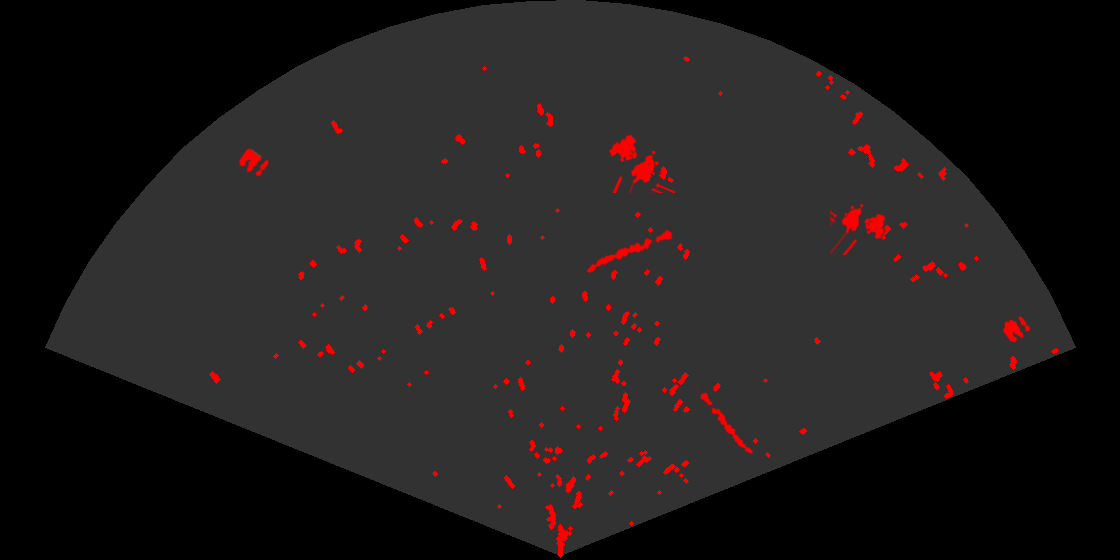ball: (237, 147, 271, 178), (1001, 315, 1032, 344)
cage: (607, 133, 675, 193), (830, 202, 887, 255)
chain: (585, 228, 677, 275), (694, 386, 755, 456)
